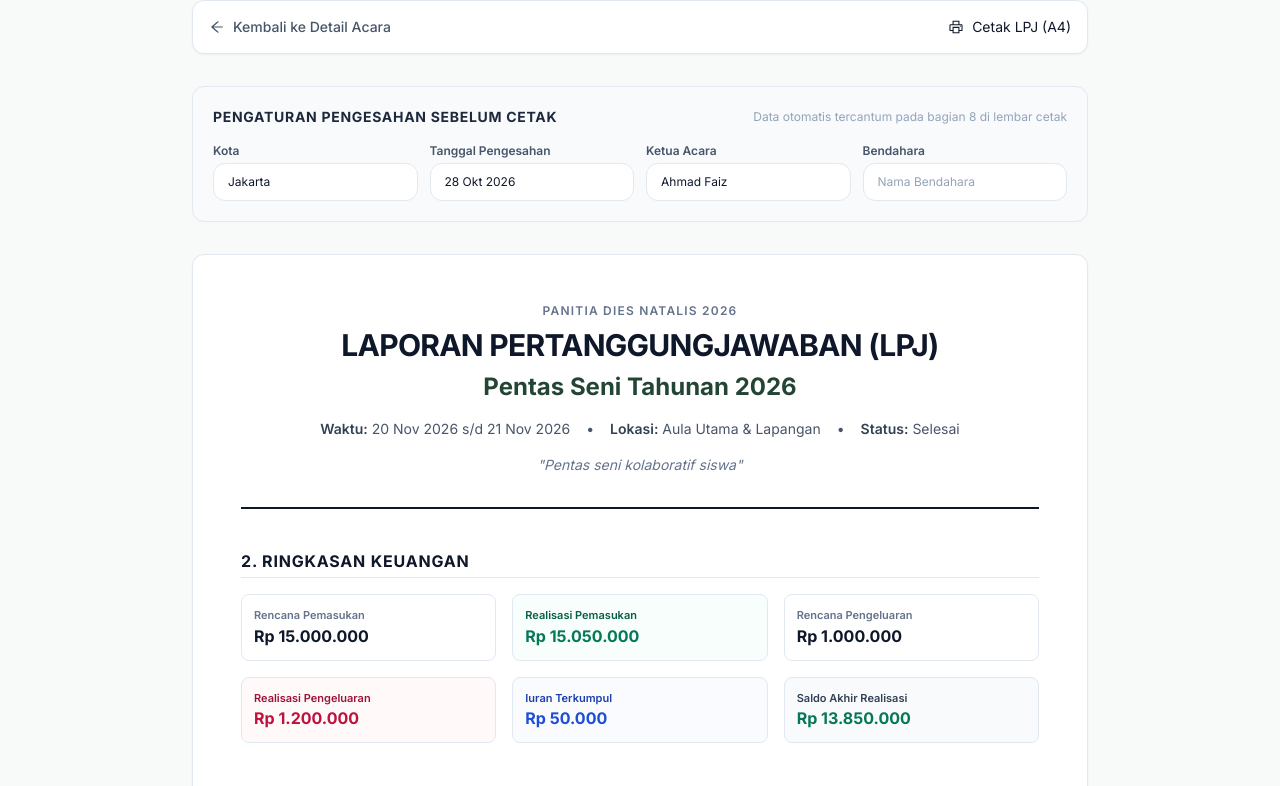
PANITIA-3.5: ProgramLpj Page › input penandatangan muncul di teks cetak
This screenshot has width=1280, height=786.
Expected: the heading "Laporan Pertanggungjawaban (LPJ)" is shown, x1=341 y1=327 x2=939 y2=363
Replace the text in the field labelled "Kota" with "Bandung". click: (315, 182)
box: x1=213 y1=163 x2=418 y2=201
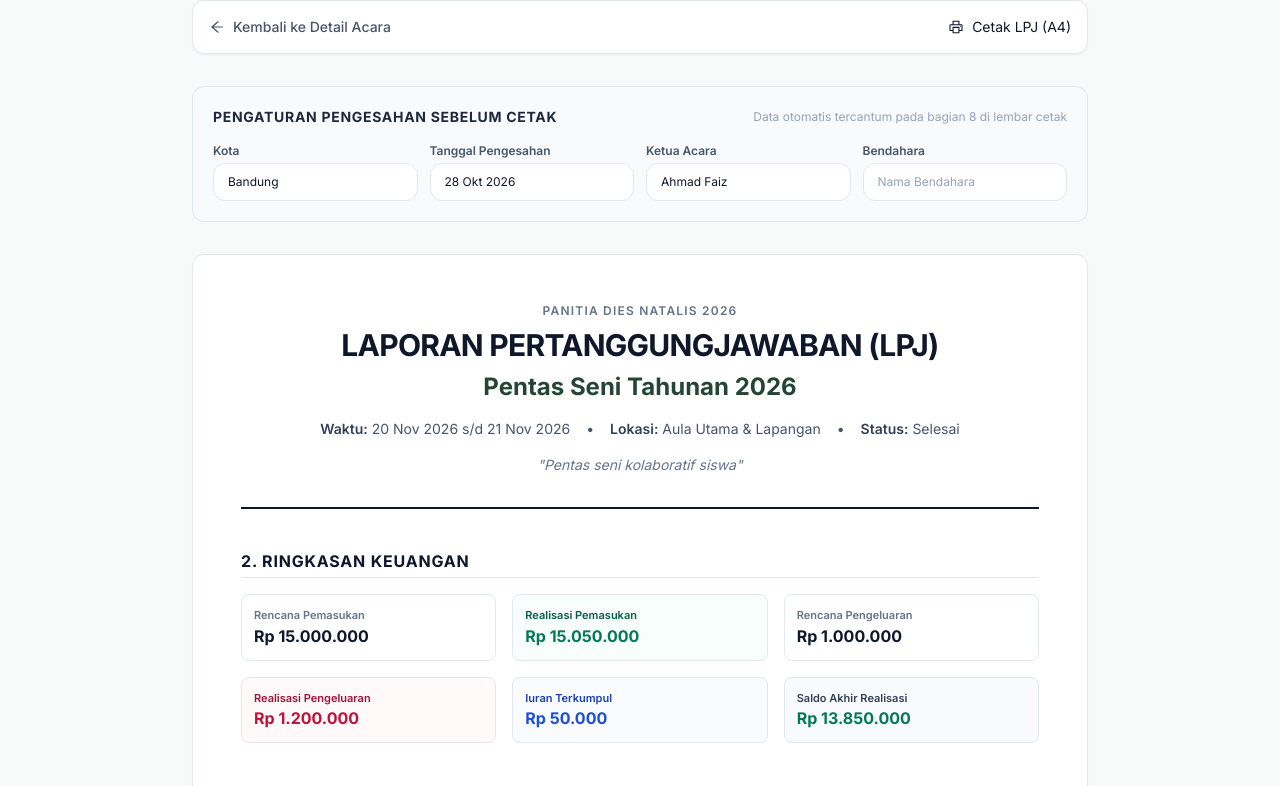
Replace the text in the field labelled "Tanggal Pengesahan" with "25 November 2026". click: (532, 182)
box: x1=430 y1=163 x2=634 y2=201
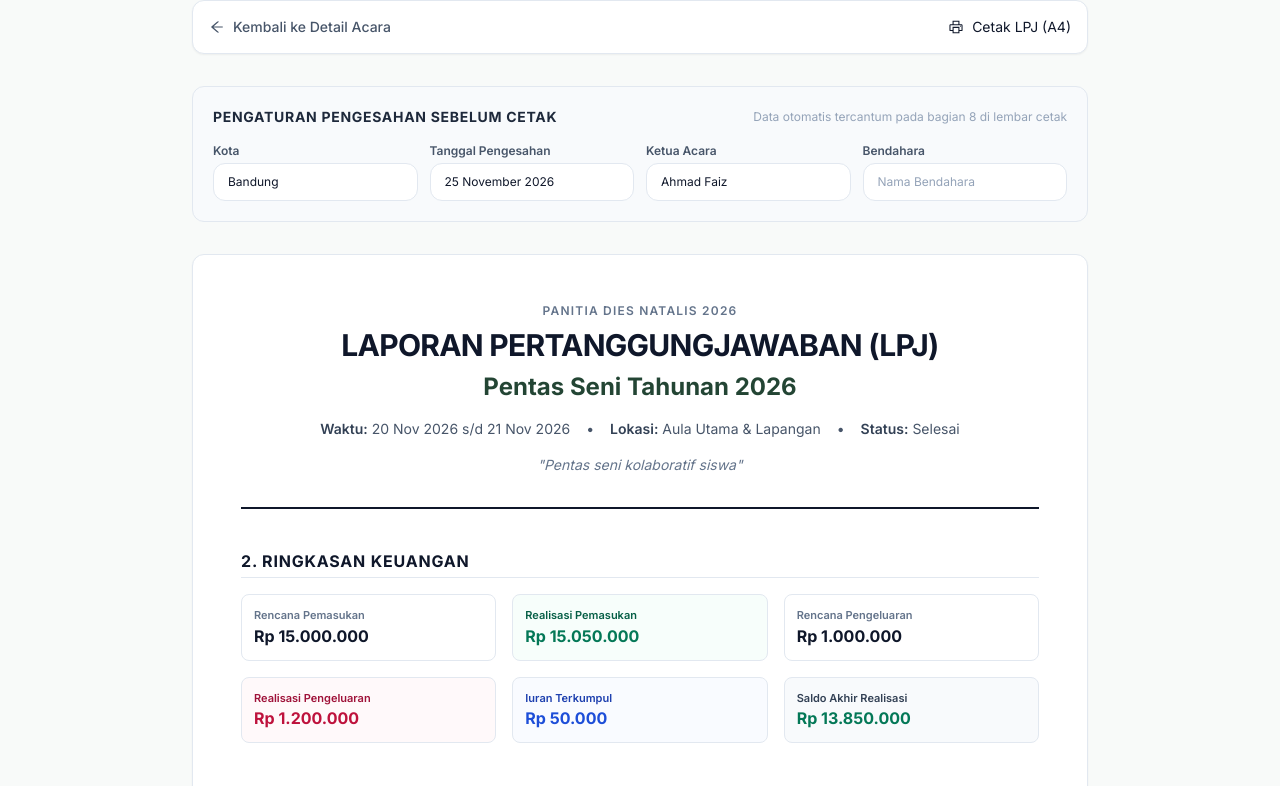
Replace the text in the field labelled "Ketua Acara" with "Dr. Ahmad Faiz, M.Sc". click: (748, 182)
box: x1=646 y1=163 x2=850 y2=201
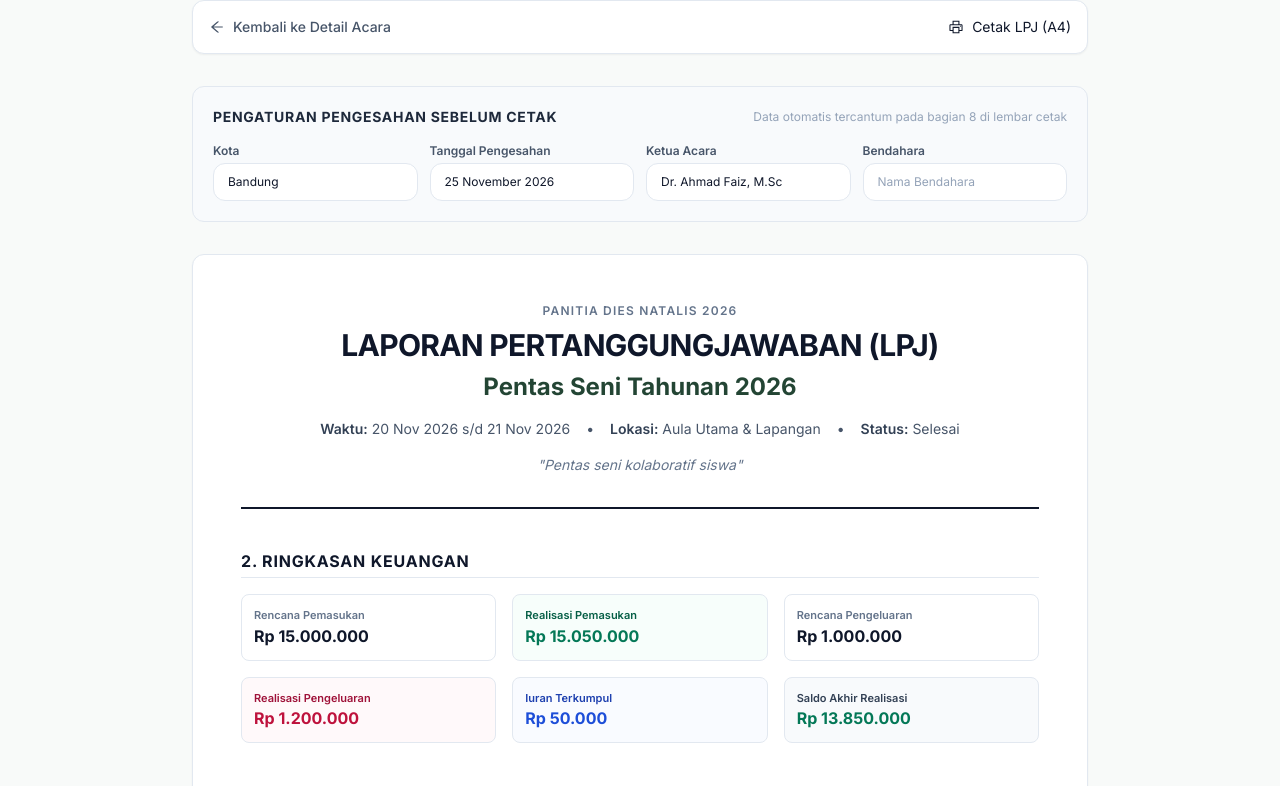
Type "Siti Rahmawati, S.E" into the field labelled "Bendahara". click: (965, 182)
box: x1=862 y1=163 x2=1067 y2=201
(page scrolled)
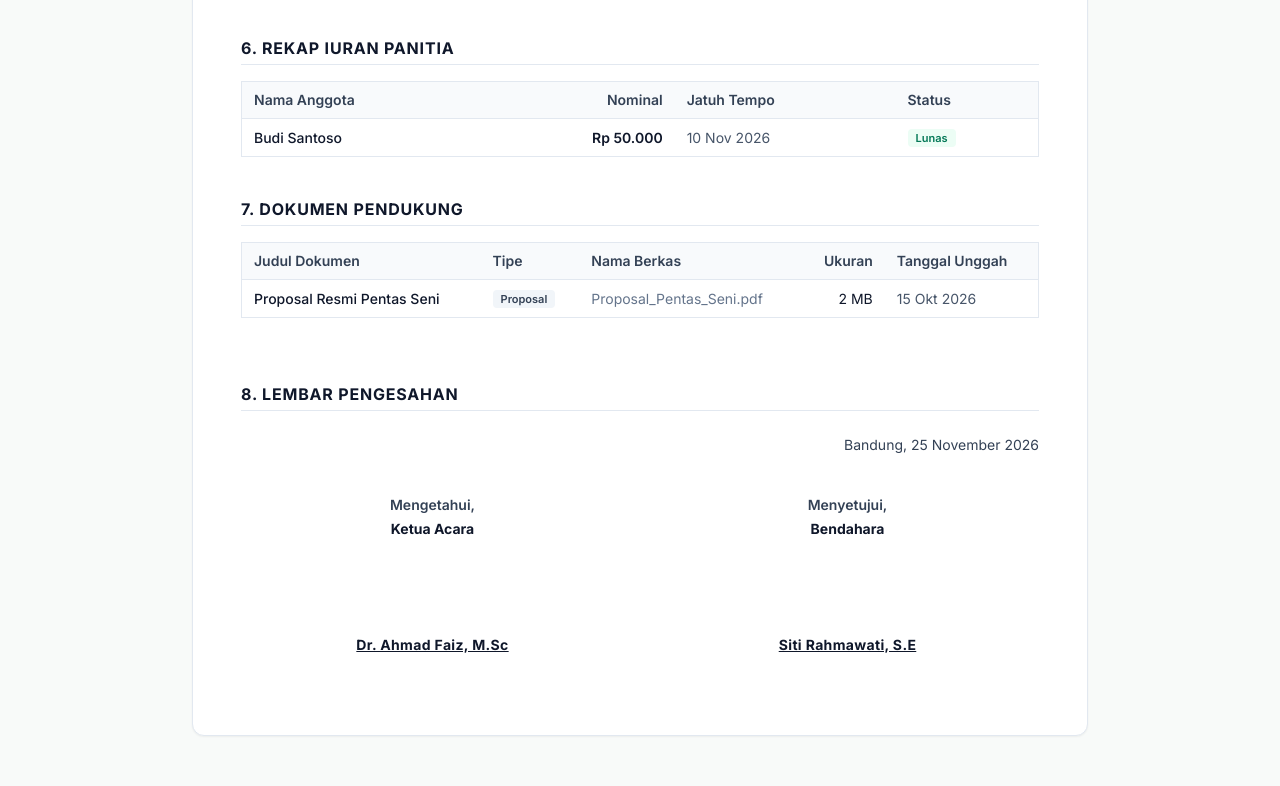
Now the text "Bandung, 25 November 2026" is shown, box x1=844 y1=436 x2=1039 y2=453
Now the text "Dr. Ahmad Faiz, M.Sc" is shown, box x1=356 y1=636 x2=509 y2=653
Now the text "Siti Rahmawati, S.E" is shown, box x1=779 y1=636 x2=916 y2=653
